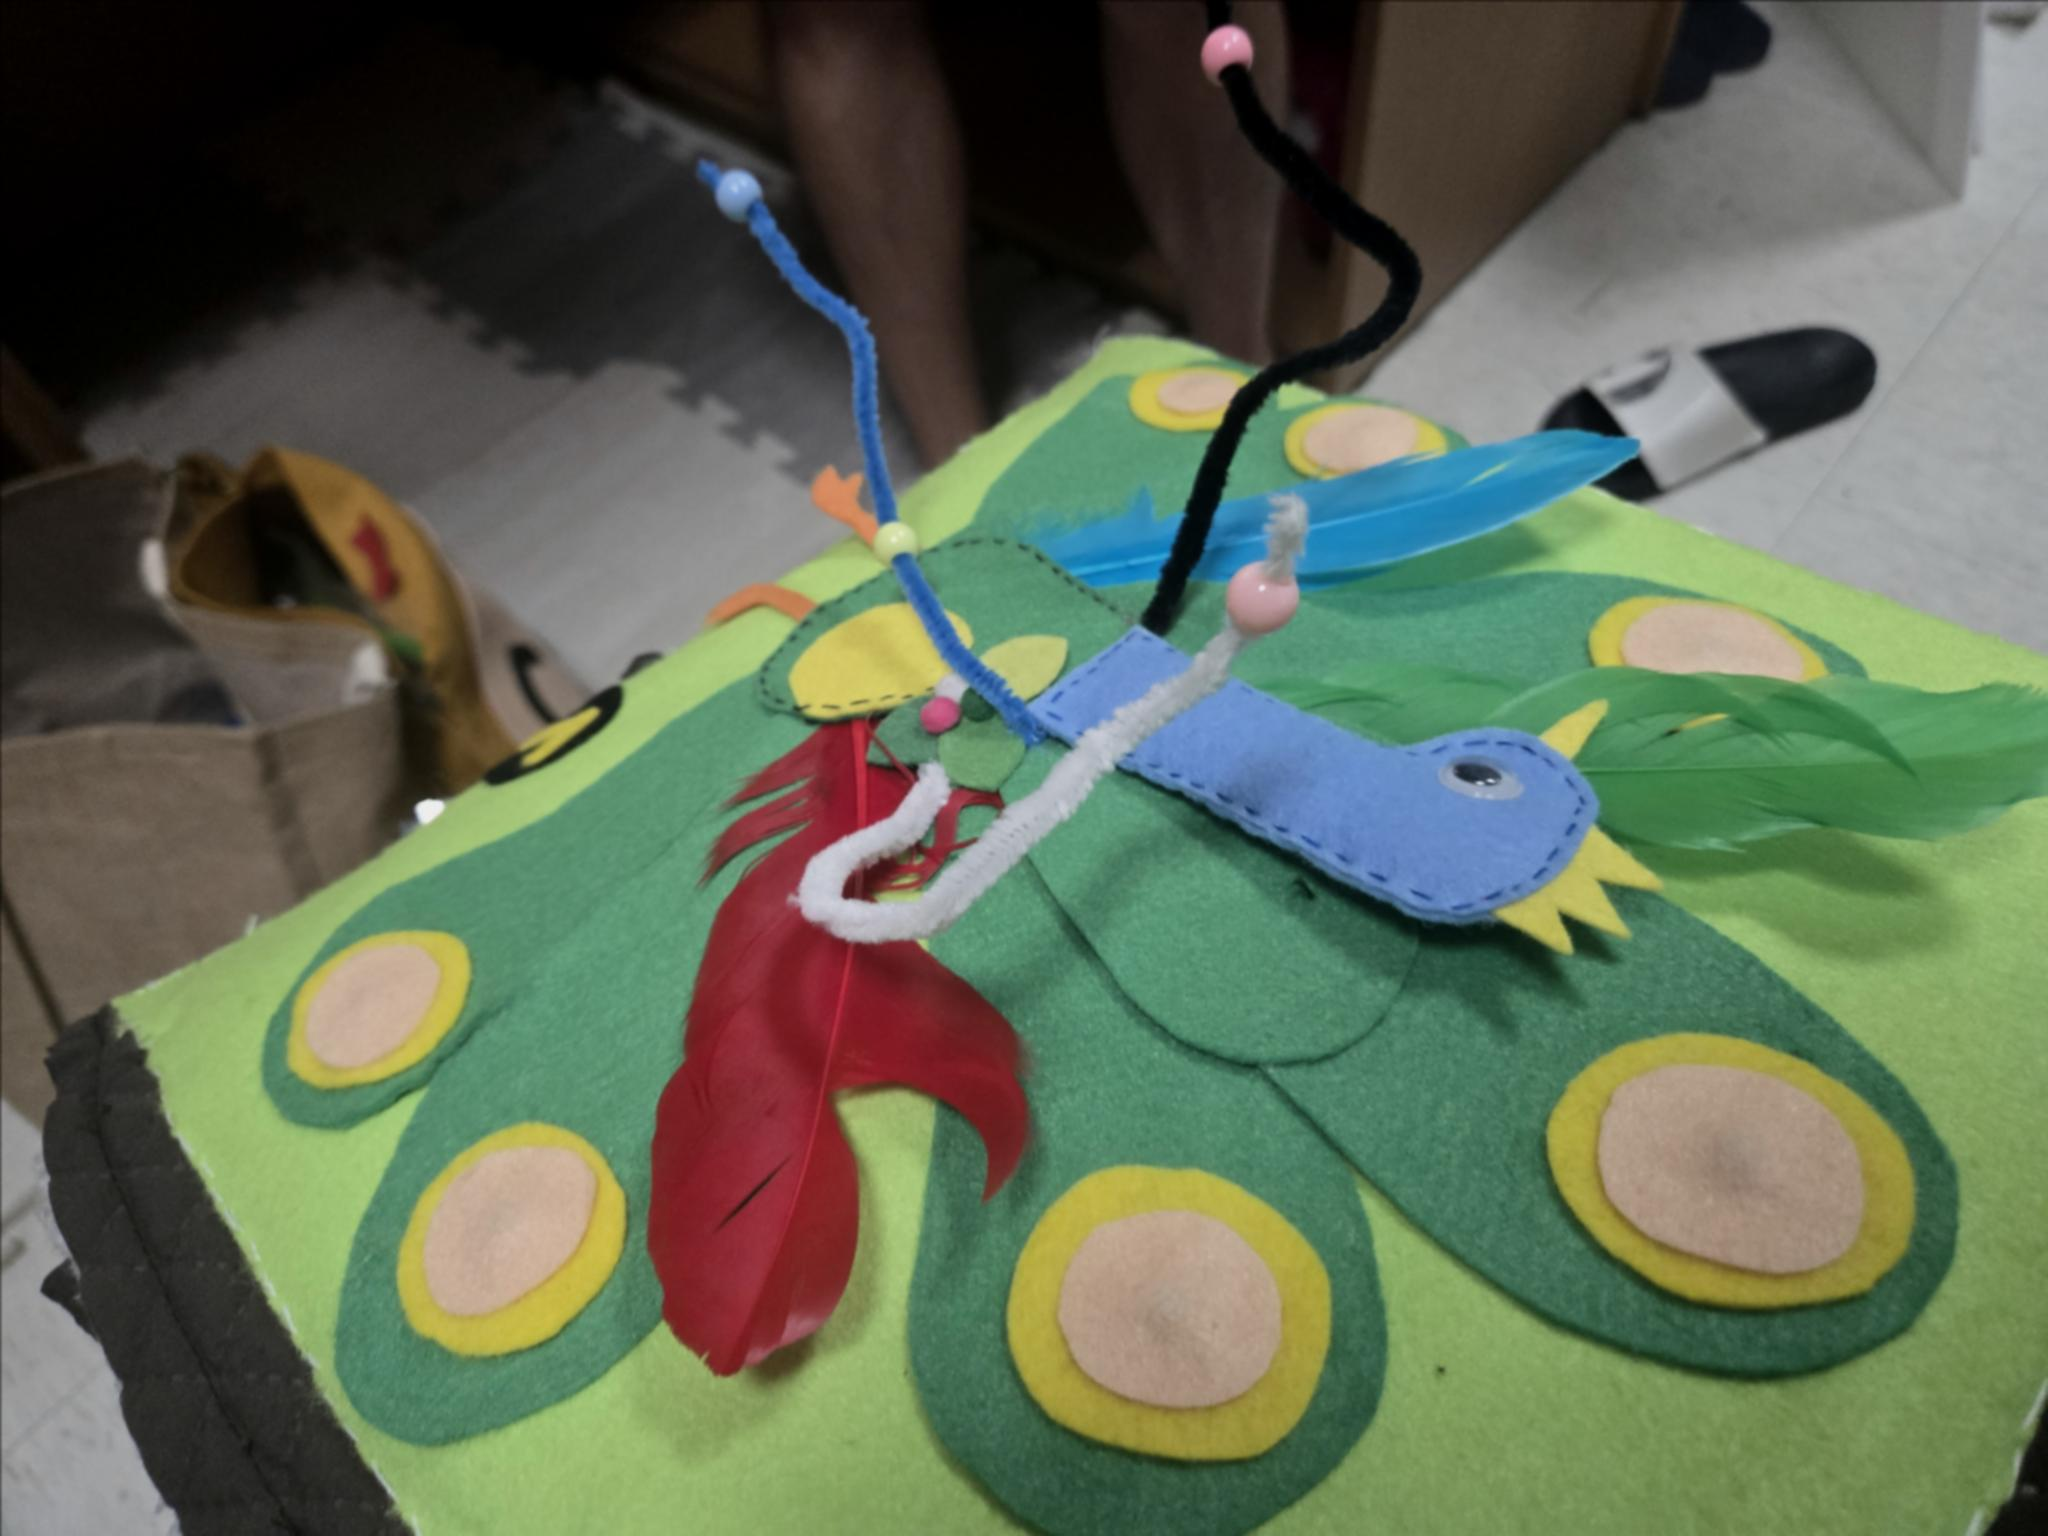bead: (1216, 552, 1313, 652), (1198, 24, 1261, 92), (864, 508, 914, 574), (713, 160, 768, 218)
